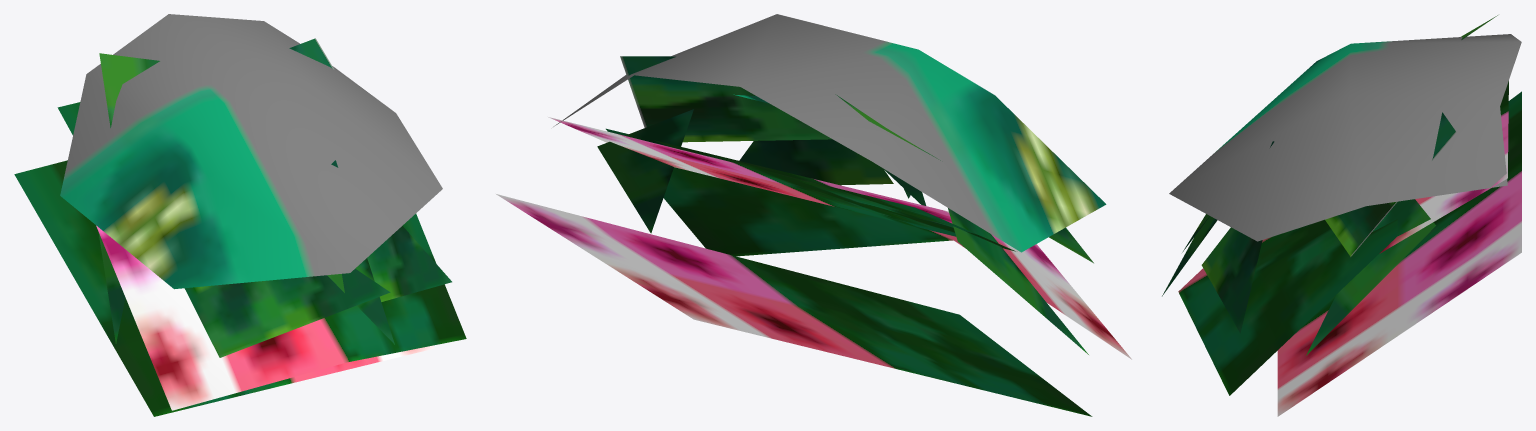
The model's file is fg_bushA_2_s.dae.
The picture shows the model from 3 angles, left to right: view 1: azimuth 30°, elevation 25°; view 2: azimuth 150°, elevation 25°; view 3: azimuth 270°, elevation 25°; orthographic projection. The views are drawn at different scales.
Parts seen in each view (by area): view 1: fg_bushA_2_s; view 2: fg_bushA_2_s; view 3: fg_bushA_2_s.
Part boxes in pixels (x1=…): fg_bushA_2_s: x1=14, y1=14, x2=466, y2=416; fg_bushA_2_s: x1=496, y1=14, x2=1131, y2=416; fg_bushA_2_s: x1=1162, y1=15, x2=1521, y2=416.
Size of the model in its own units: 42.31 by 35.32 by 38.65.
Materials: 1 (1 with a texture image).
